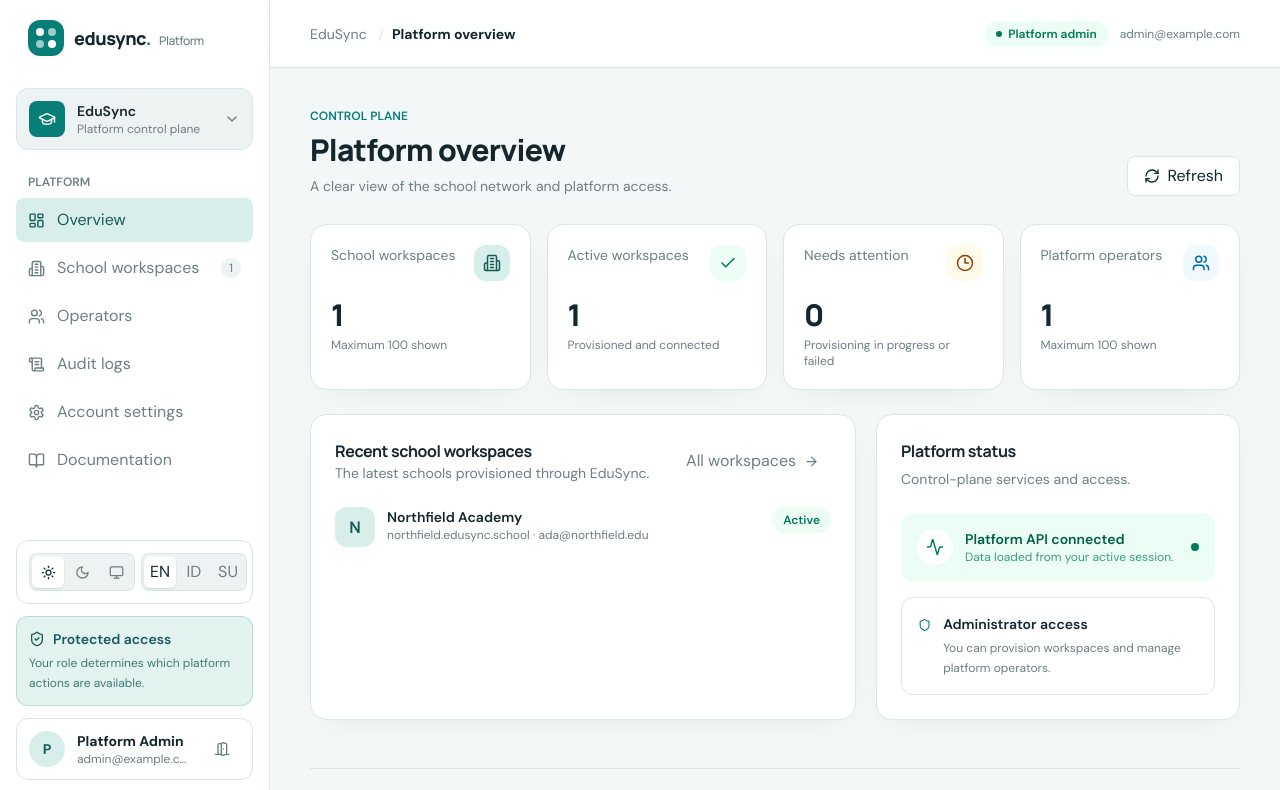
Platform admin lifecycle › provisions a school workspace through the create dialog
Check: the text "Northfield Academy" is shown, box top-left (387, 508), bottom-right (522, 526)
Click the button "School workspaces 1" at (134,268), box top-left (16, 246), bottom-right (253, 290)
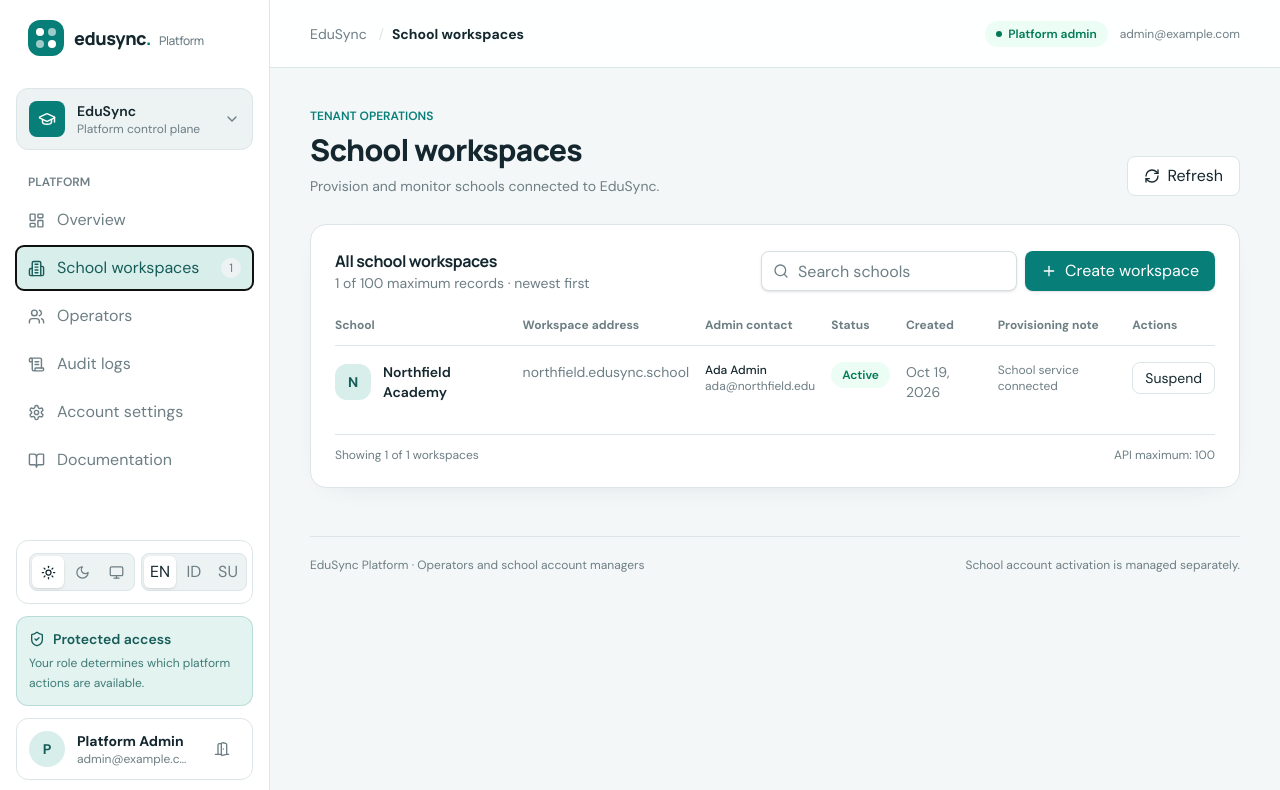
Click the button "Create workspace" at (1120,271), box top-left (1025, 251), bottom-right (1215, 291)
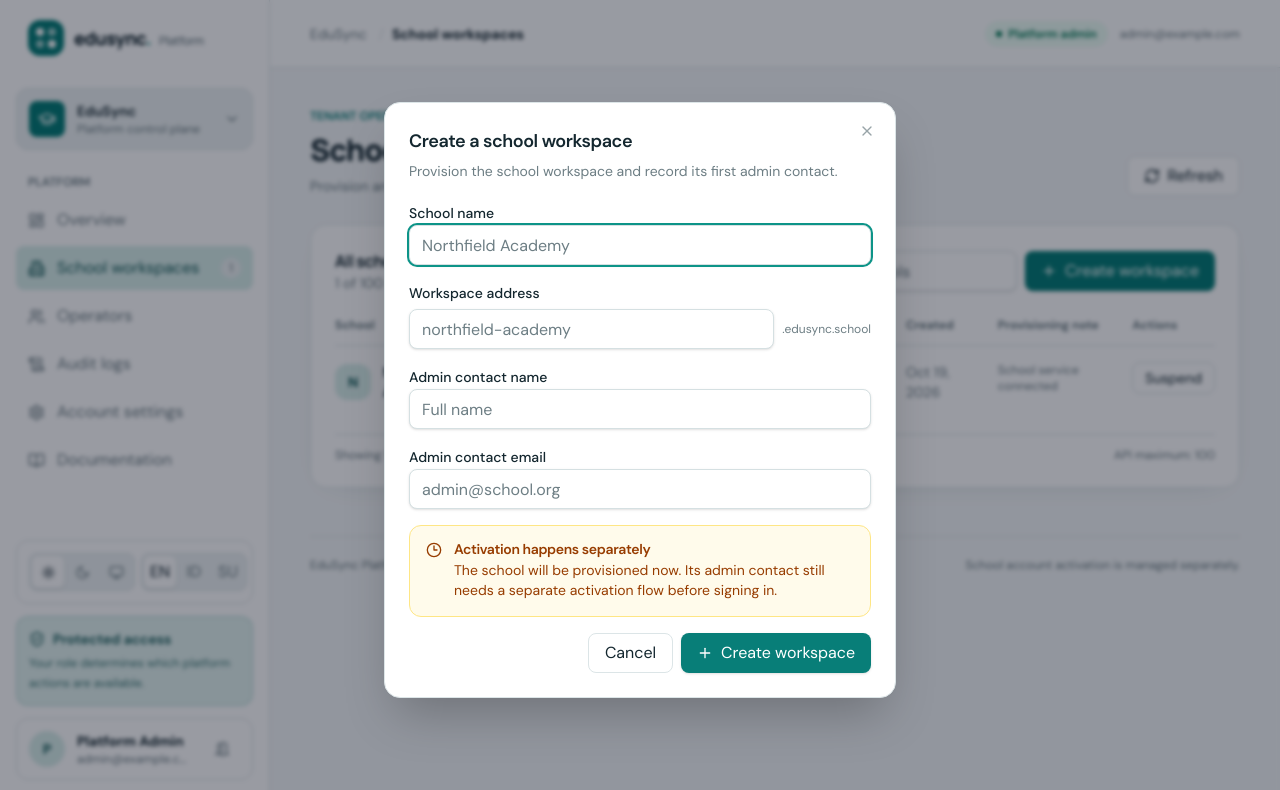
Check: the heading "Activation happens separately" is shown, box top-left (454, 540), bottom-right (650, 558)
Type "Riverside Prep" into the field labelled "School name" at (640,245), box top-left (409, 225), bottom-right (871, 265)
Type "riverside-prep" into the field labelled "Workspace address" at (592,329), box top-left (409, 309), bottom-right (774, 349)
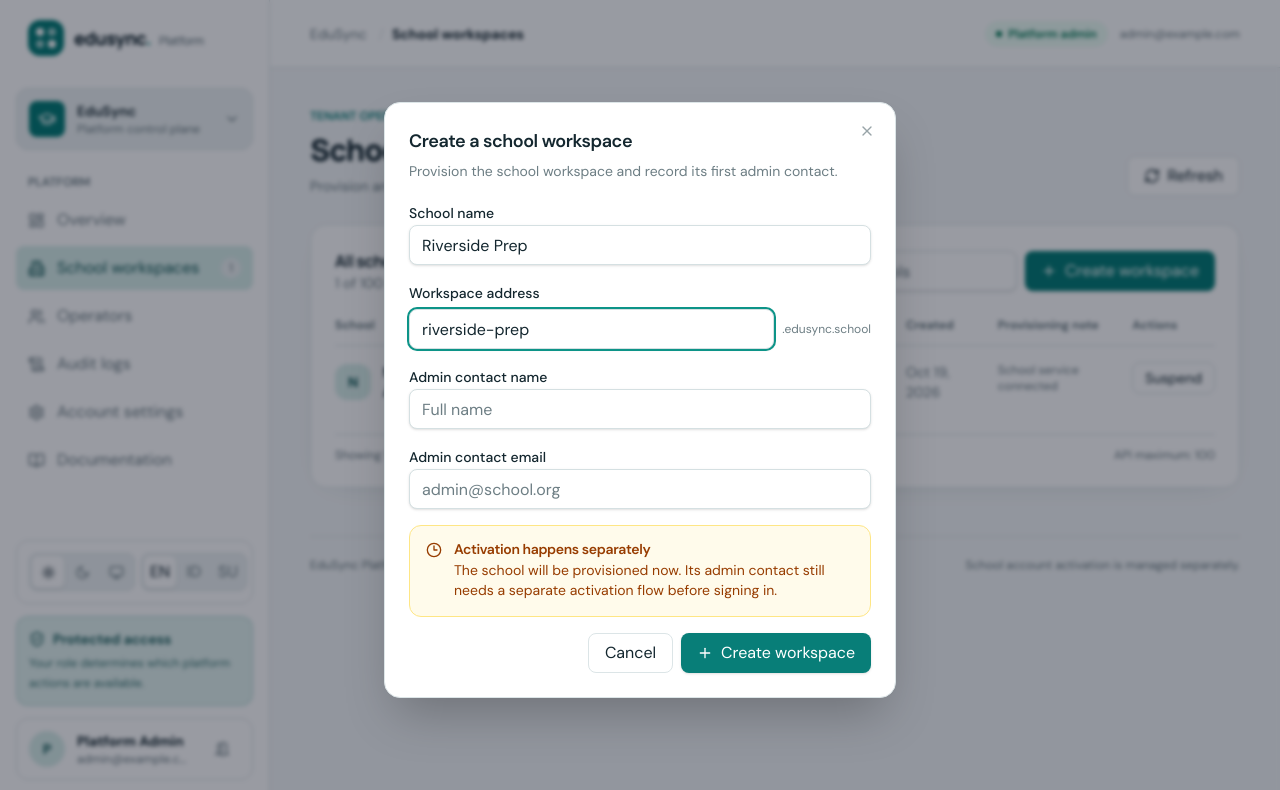
Type "Sam Admin" into the field labelled "Admin contact name" at (640,409), box top-left (409, 389), bottom-right (871, 429)
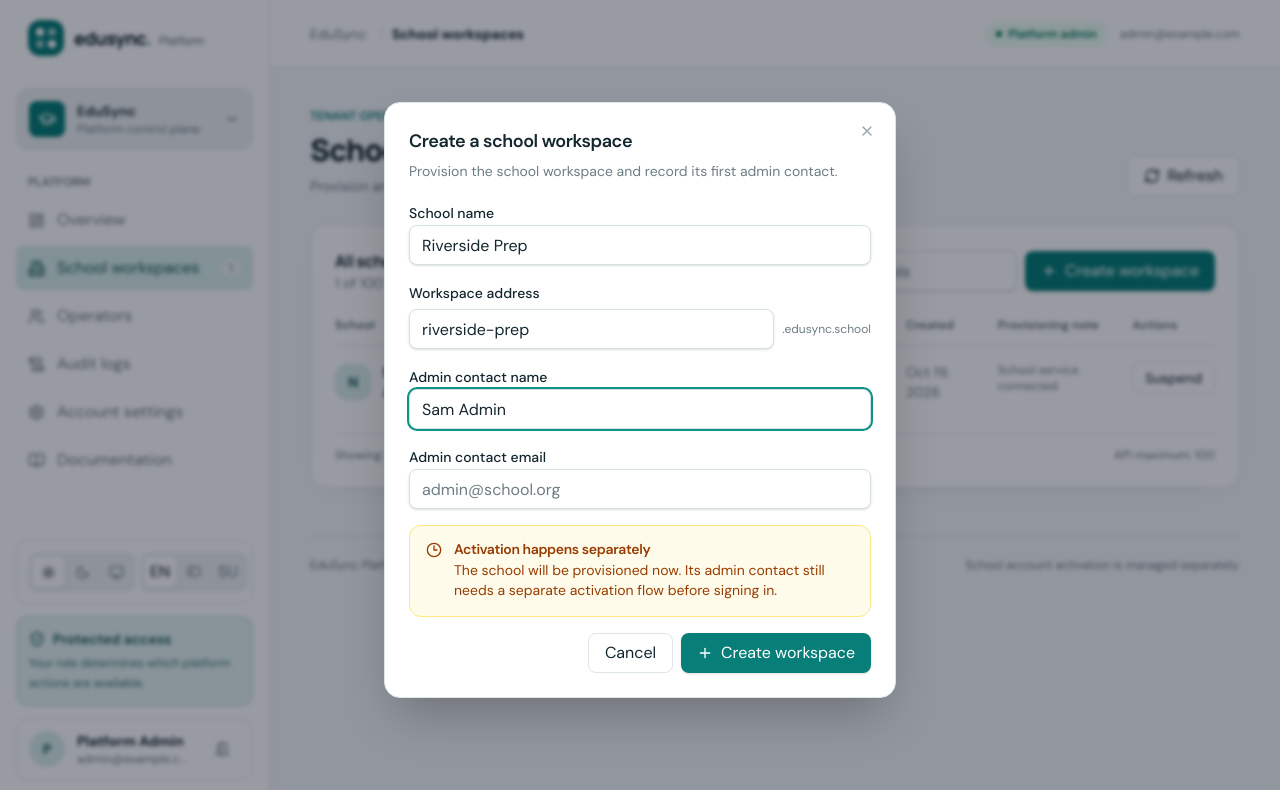
Type "sam@riverside.edu" into the field labelled "Admin contact email" at (640,489), box top-left (409, 469), bottom-right (871, 509)
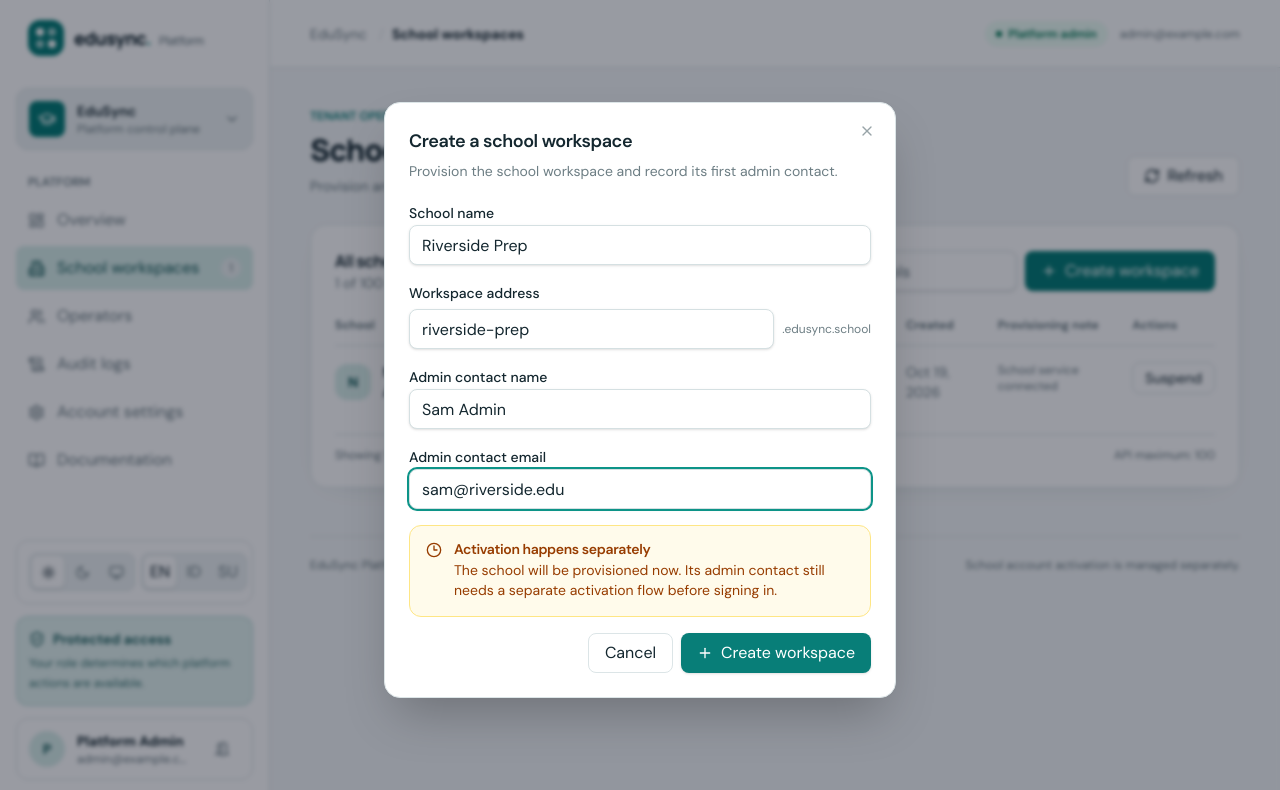
Click the button "Create workspace" at (776,653), box top-left (681, 633), bottom-right (871, 673)
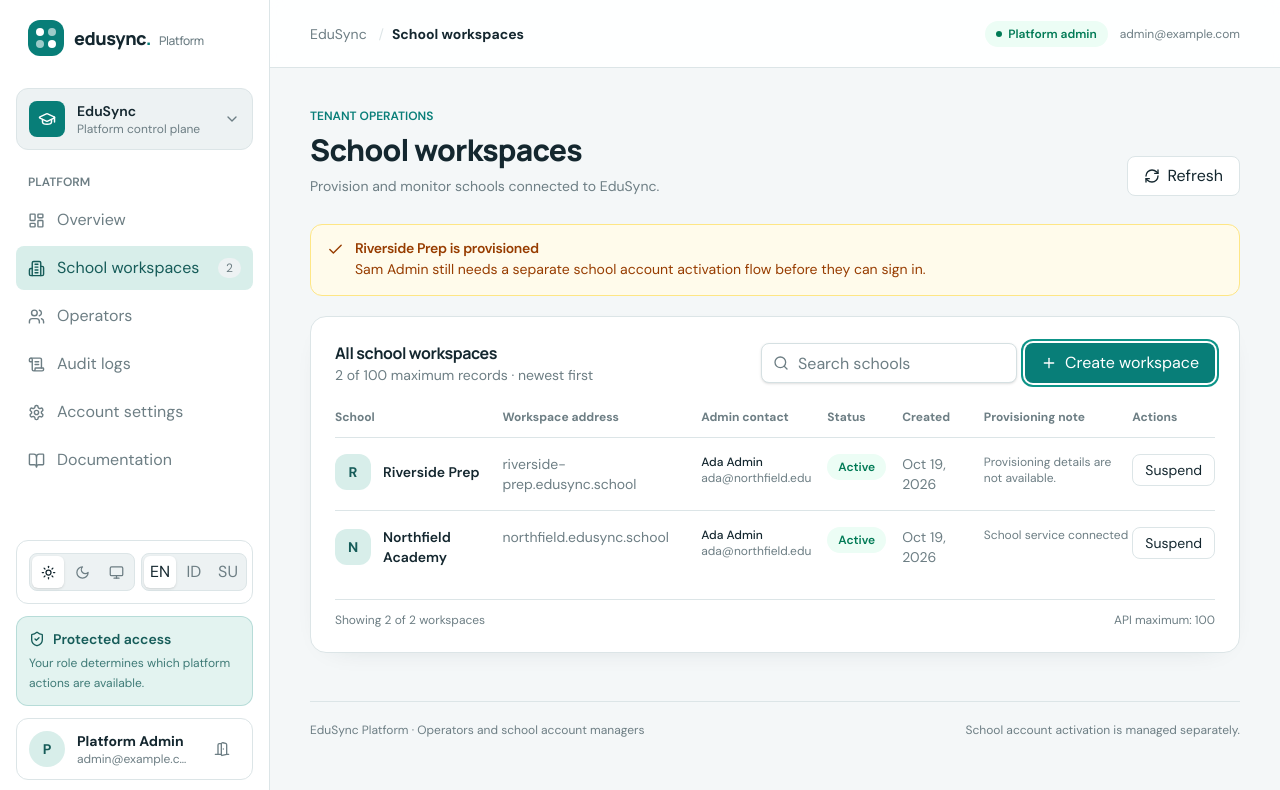
Check: the heading "Riverside Prep is provisioned" is shown, box top-left (355, 239), bottom-right (539, 257)
Check: the text "Riverside Prep" is shown, box top-left (383, 462), bottom-right (480, 482)
